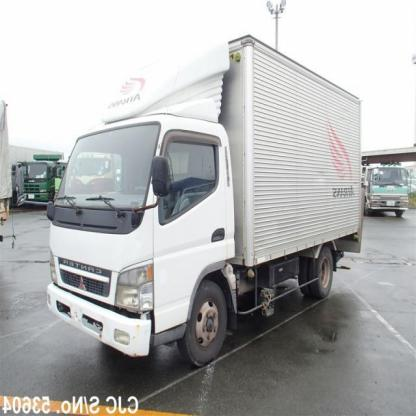truck: (49, 37, 363, 368)
